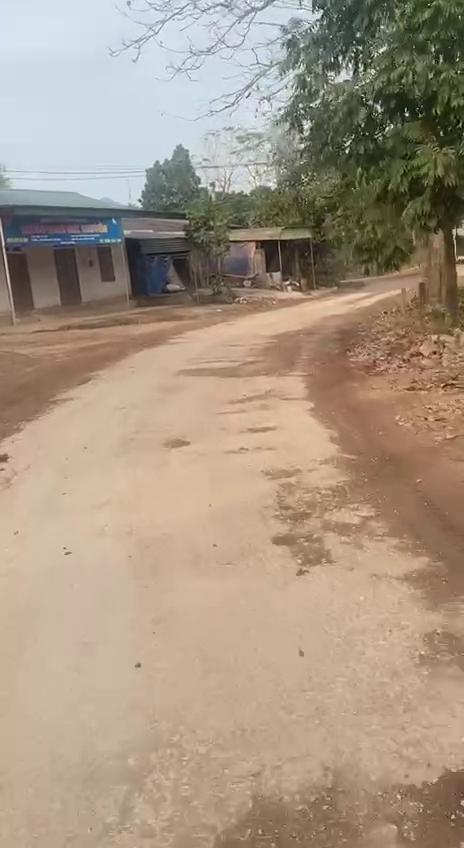pothole: (222, 774, 368, 848), (380, 758, 464, 848)
